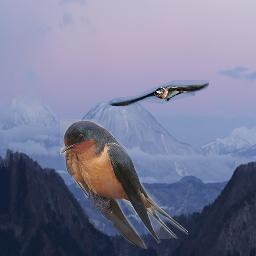Swallow: (60, 119, 188, 249), (109, 80, 209, 106)
